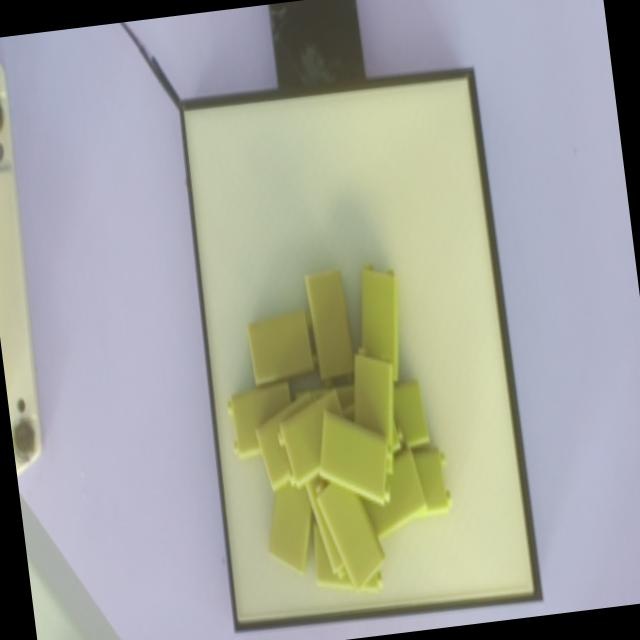bateria: (319, 409, 390, 506), (247, 308, 318, 385)
mesa: (177, 67, 543, 633)
